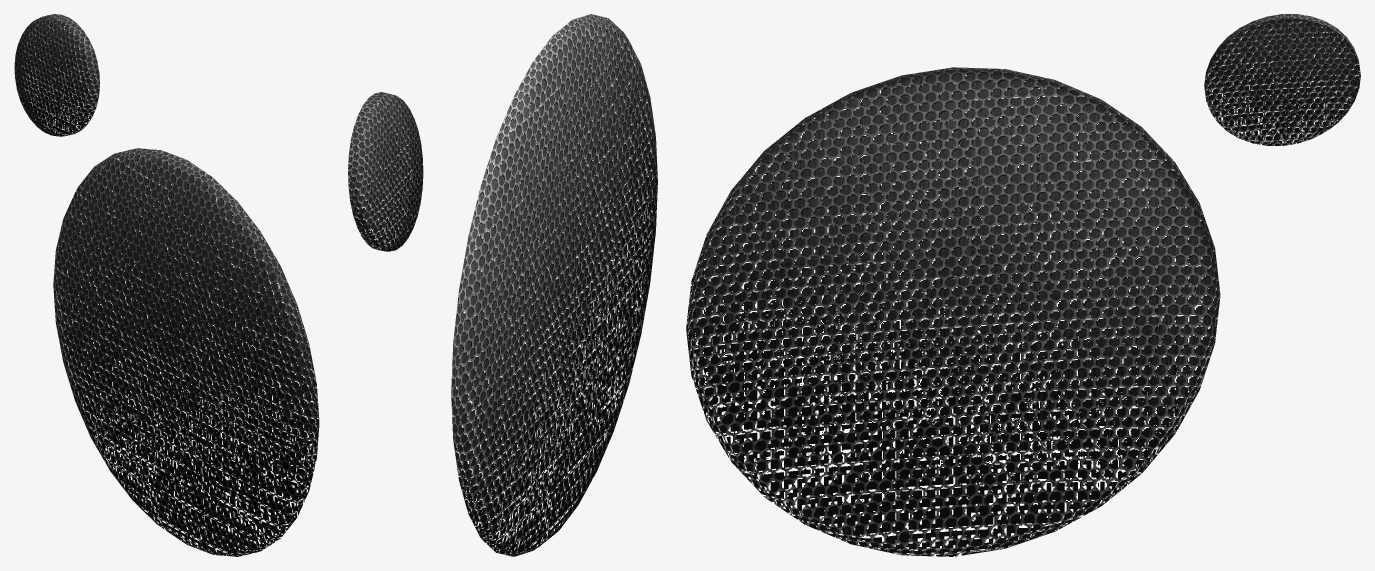
The model's file is Murcielago-LeftDoorSpeakers.fbx.
3 views of the same model, side by side, from view 1: azimuth 30°, elevation 25°; view 2: azimuth 150°, elevation 25°; view 3: azimuth 270°, elevation 25° (orthographic). The views are drawn at different scales.
Visible parts, largest first — view 1: polymsh2; view 2: polymsh2; view 3: polymsh2.
Part boxes in pixels (x1,y1,x2,y2): polymsh2: [14, 14, 319, 556]; polymsh2: [348, 14, 657, 556]; polymsh2: [686, 14, 1360, 556].
Size of the model in its own units: 0.0545 by 0.3703 by 0.4149.
